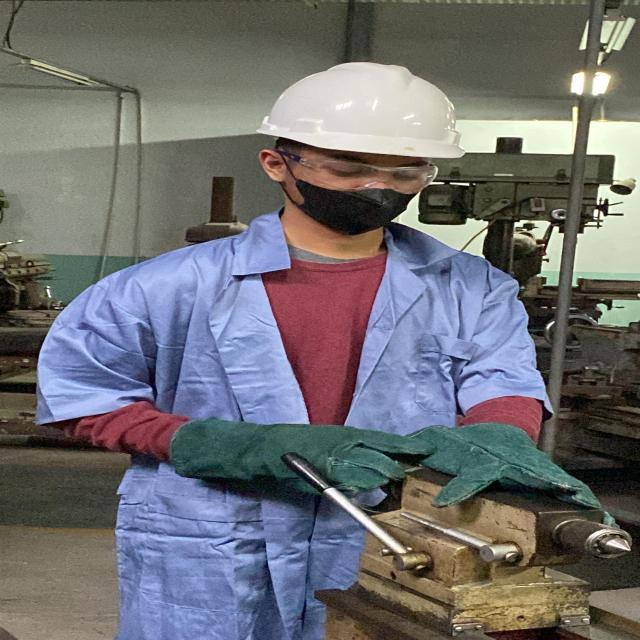glasses: (289, 154, 442, 193)
